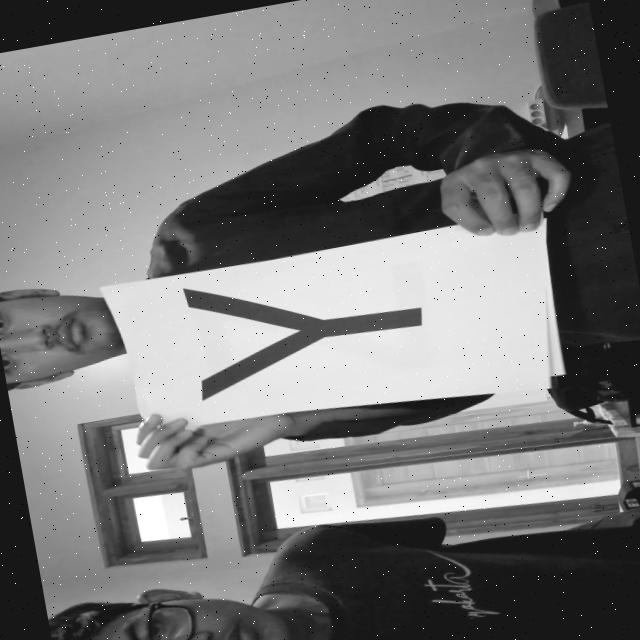y: (166, 236, 449, 406)
